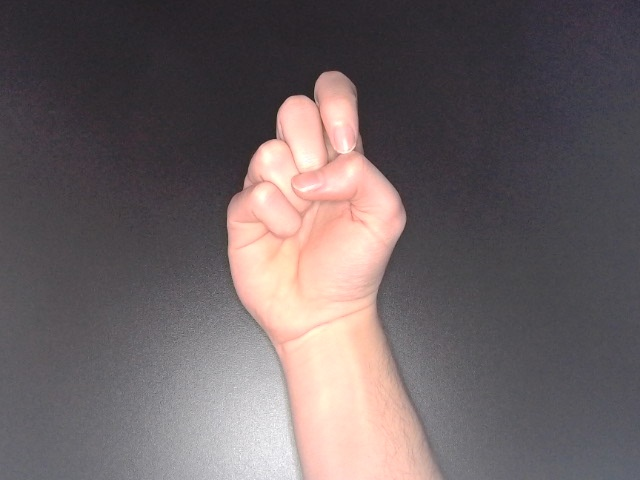s: (219, 67, 411, 355)
